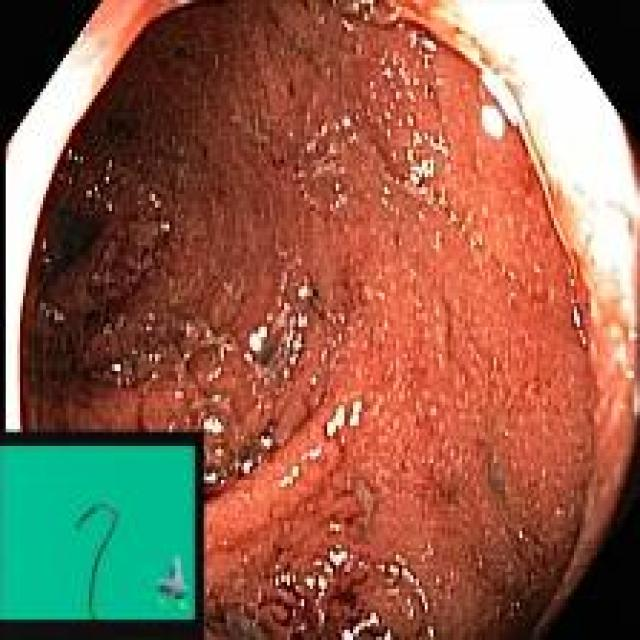ulcerative-colitis-grade-2-3: (23, 3, 595, 638)
